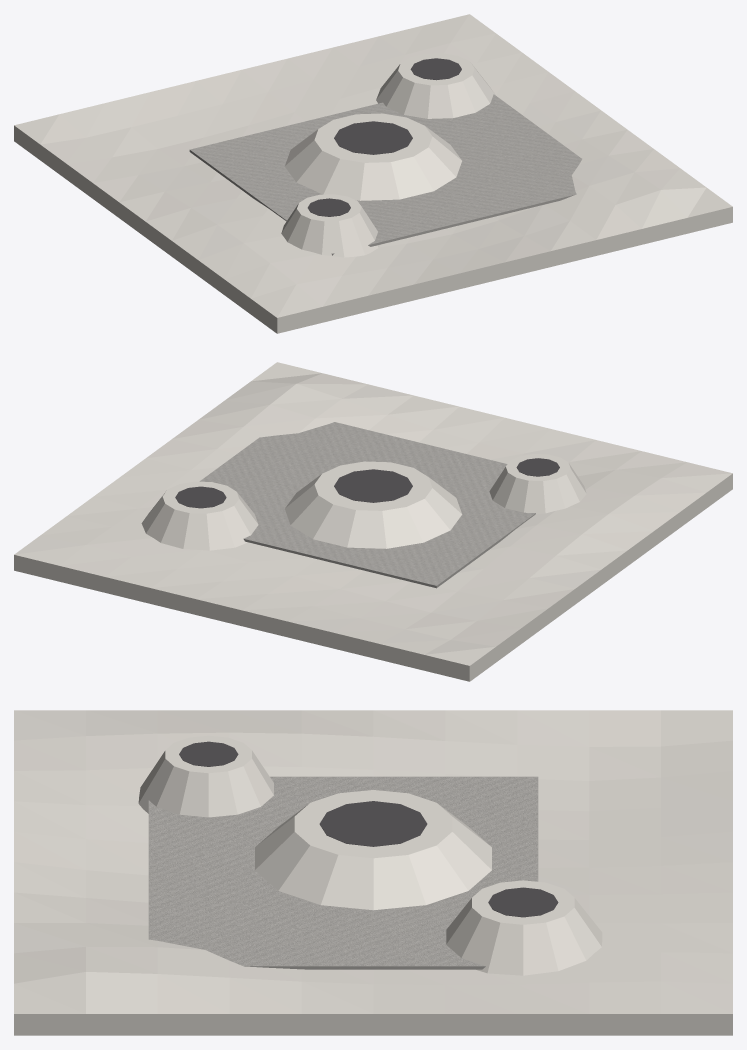
Rendered from volcano-and-lava-fields-volcano-and-lava-fields-steam--114d0017__37462.glb.
3 renders of one model, top to bottom at view 1: azimuth 30°, elevation 25°; view 2: azimuth 150°, elevation 25°; view 3: azimuth 270°, elevation 25°, orthographic. The views are drawn at different scales.
Parts seen in each view (by area): view 1: volcano-and-lava-fields-steam-vent-plate; view 2: volcano-and-lava-fields-steam-vent-plate; view 3: volcano-and-lava-fields-steam-vent-plate.
Part boxes in pixels (box(x1,y1,x2,y2)): volcano-and-lava-fields-steam-vent-plate: box(14, 14, 732, 333); volcano-and-lava-fields-steam-vent-plate: box(14, 362, 732, 681); volcano-and-lava-fields-steam-vent-plate: box(14, 710, 732, 1035).
Size of the model in its own units: 2.4 by 0.2212 by 2.4.
3 materials, 1 textured.
